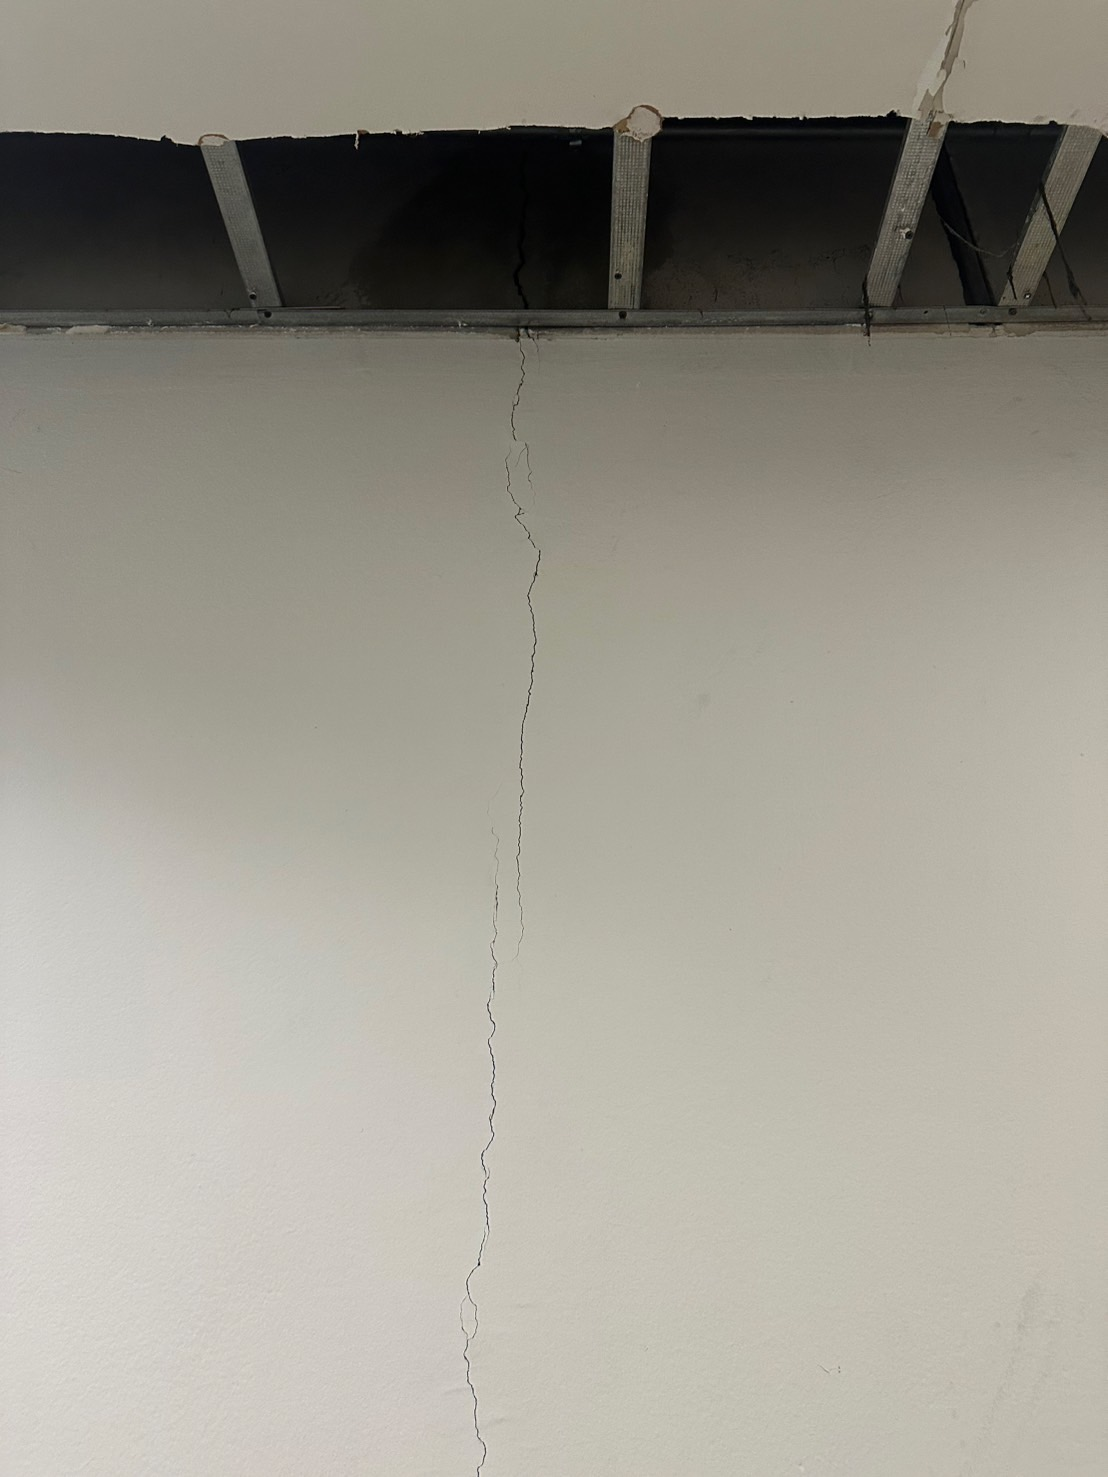Medium: (426, 441, 578, 1333)
